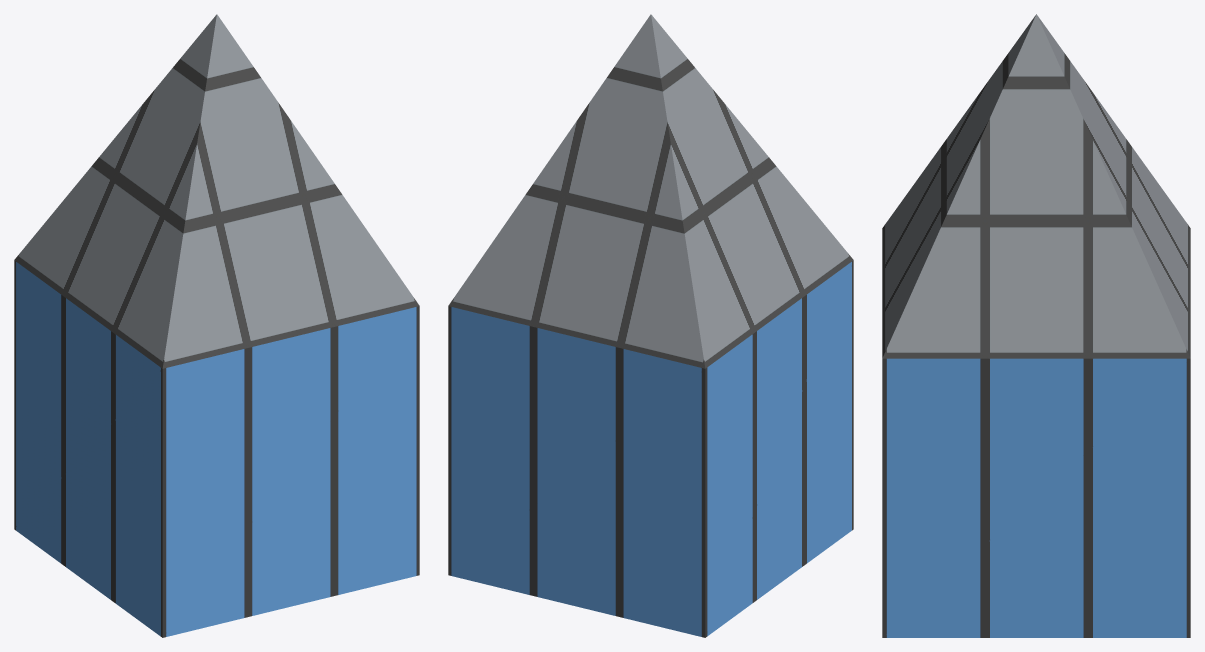
The model's file is spike_3x3_01.fbx.
The picture shows the model from 3 angles, left to right: view 1: azimuth 30°, elevation 25°; view 2: azimuth 150°, elevation 25°; view 3: azimuth 270°, elevation 25°; orthographic projection. The views are drawn at different scales.
Visible parts, largest first — view 1: spike_3x3_01; view 2: spike_3x3_01; view 3: spike_3x3_01.
Part boxes in pixels (x1,y1,x2,y2): spike_3x3_01: [14, 14, 419, 637]; spike_3x3_01: [448, 14, 853, 637]; spike_3x3_01: [882, 14, 1190, 637].
Size of the model in its own units: 240 by 480 by 240.
2 materials, 2 textured.
